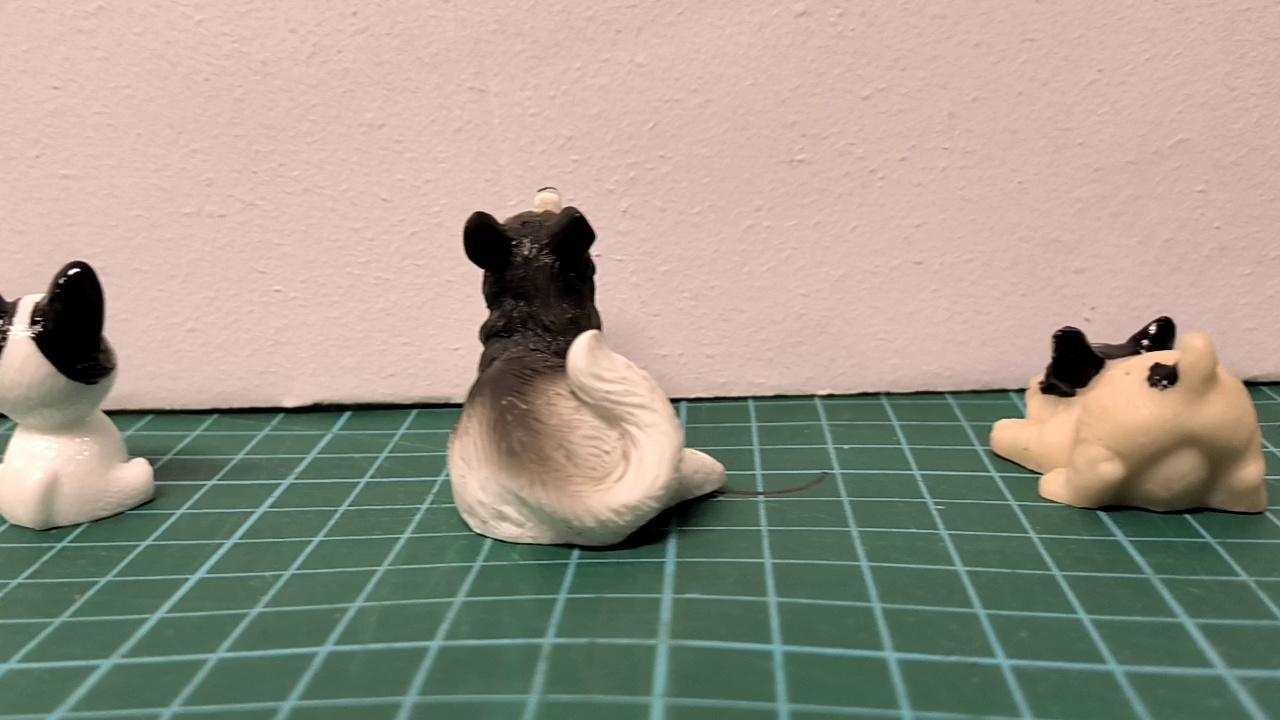pet: (447, 185, 731, 551), (990, 317, 1271, 513), (0, 260, 158, 534)
